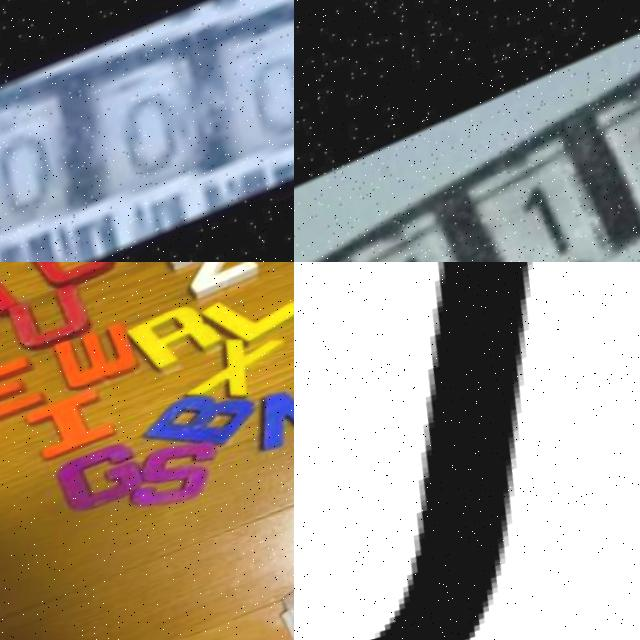0: (102, 82, 198, 198), (0, 111, 74, 239), (224, 42, 294, 166)
1: (504, 167, 601, 262)
A: (0, 264, 17, 339)
B: (143, 383, 263, 468)
E: (0, 354, 48, 433)
G: (44, 443, 151, 529)
I: (24, 385, 122, 470)
J: (294, 262, 640, 640)
L: (205, 281, 294, 359)
N: (262, 384, 294, 460)
O: (41, 262, 117, 290)
R: (133, 305, 228, 381)
S: (141, 437, 240, 519)
U: (0, 284, 90, 355)
W: (54, 322, 149, 401)
X: (199, 330, 294, 412)
Z: (163, 262, 268, 306)
